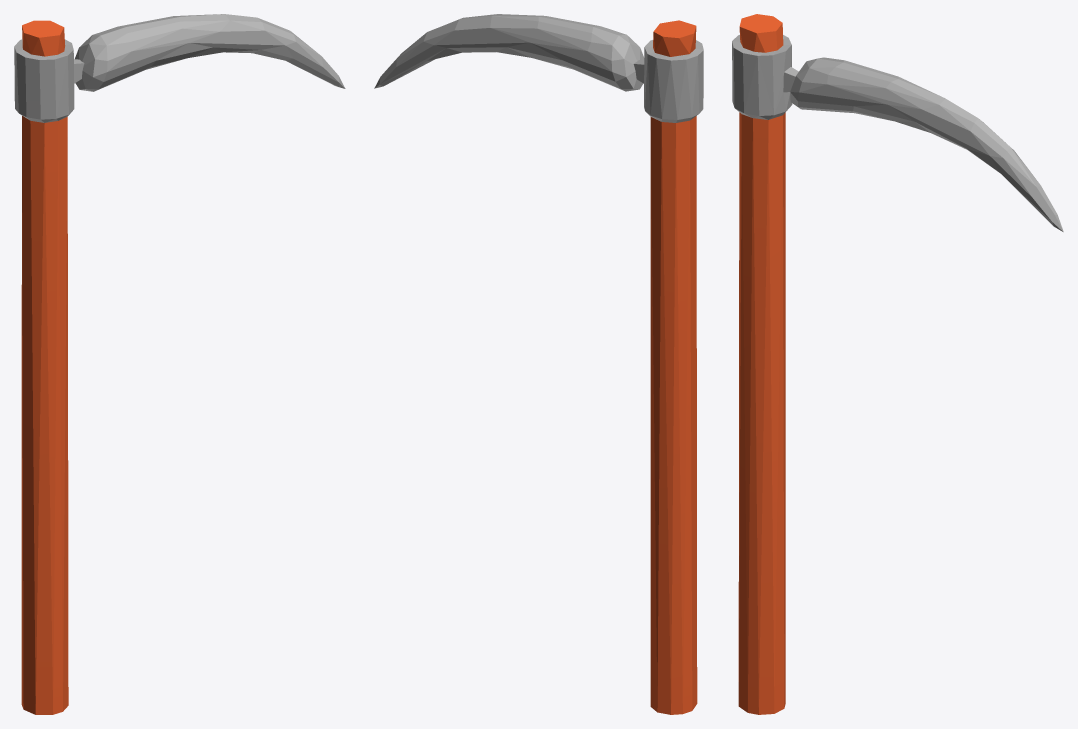
The model's file is Foice.fbx.
The picture shows the model from 3 angles, left to right: view 1: azimuth 30°, elevation 25°; view 2: azimuth 150°, elevation 25°; view 3: azimuth 330°, elevation 25°; orthographic projection.
Parts seen in each view (by area): view 1: Foice; view 2: Foice; view 3: Foice.
Boxes of the visible parts, bbox=[...] form: Foice: bbox=[14, 14, 345, 714]; Foice: bbox=[374, 14, 703, 714]; Foice: bbox=[732, 14, 1063, 714].
Size of the model in its own units: 255 by 505 by 40.21.
Materials: 1 (1 with a texture image).
